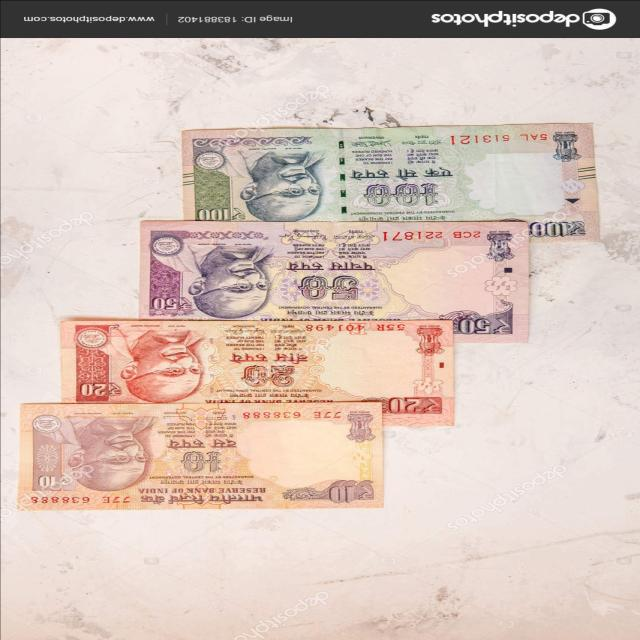20IndianRupees: (68, 322, 462, 430)
